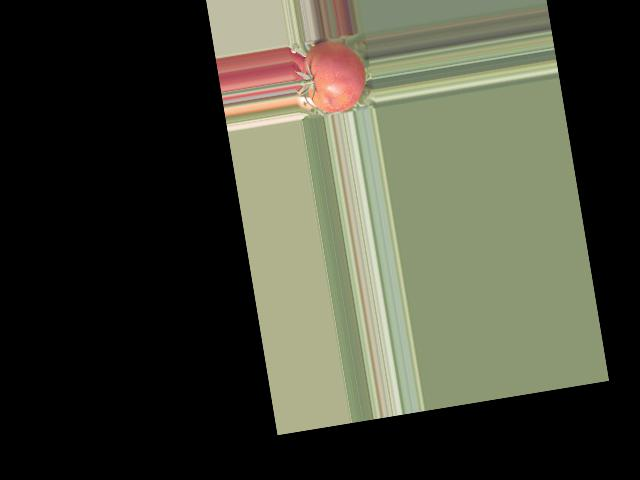tomato: (298, 36, 370, 116)
